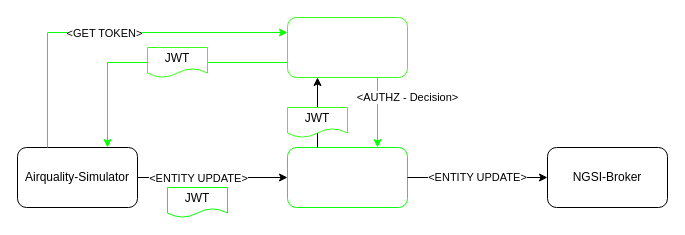
The diagram is 685 pixels wide and 235 high, and some of its shapes have lost their labels. The box of each missing label's shape, as (x1, y1, x2, y2) in pixels:
Keycloak: (286, 16, 408, 78)
PEP-Proxy: (286, 146, 408, 208)
